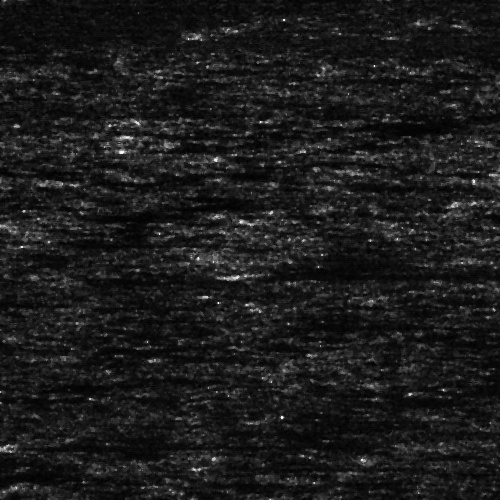object: (447, 71, 500, 104), (170, 460, 285, 471), (0, 436, 63, 455), (13, 177, 106, 186), (95, 145, 188, 152), (35, 302, 118, 309), (88, 131, 151, 138), (239, 267, 270, 280), (228, 417, 281, 422), (56, 319, 97, 322)
shadow: (17, 436, 353, 455), (255, 267, 500, 280), (228, 460, 368, 471), (120, 131, 329, 138), (59, 177, 199, 186), (255, 417, 471, 422), (142, 145, 212, 152), (77, 302, 146, 309), (0, 45, 23, 54), (77, 319, 146, 322)
